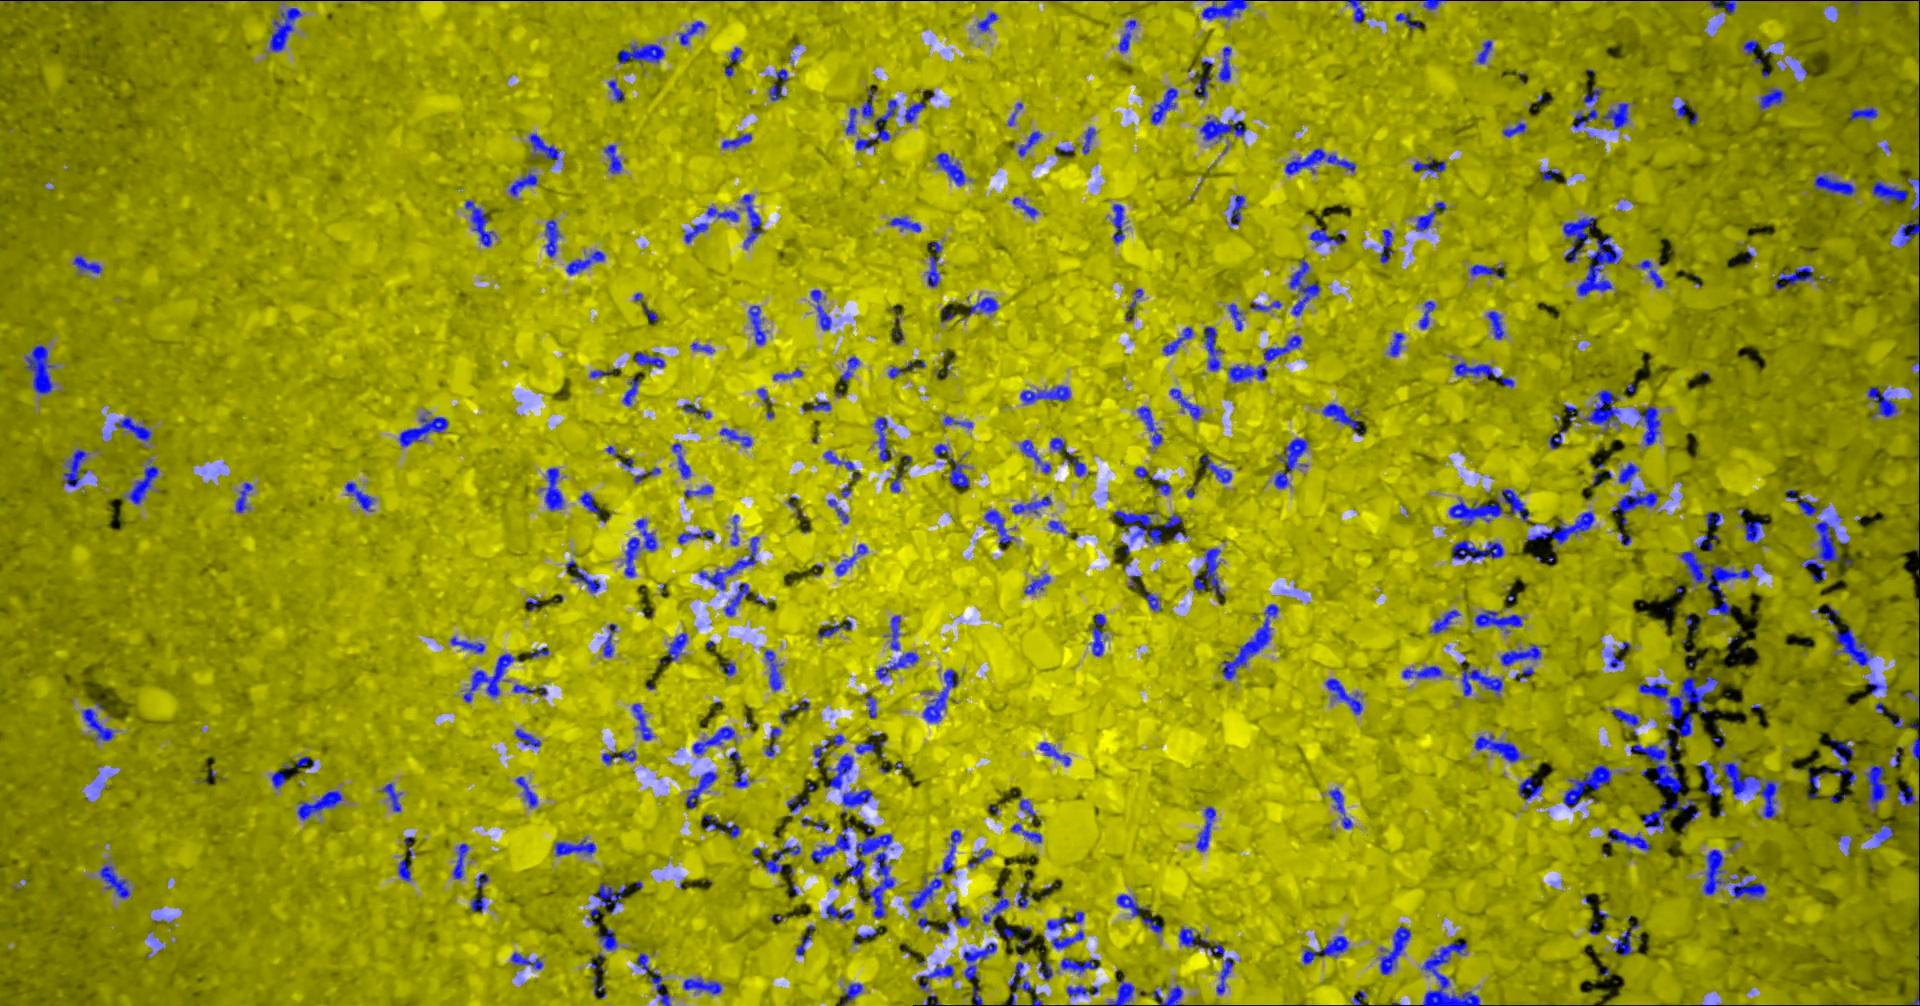ant: (1223, 605, 1280, 680), (701, 536, 759, 589), (1724, 761, 1778, 817), (1578, 236, 1622, 295), (465, 653, 516, 702), (1632, 744, 1683, 793), (1529, 511, 1596, 544), (1806, 520, 1841, 582), (1115, 511, 1183, 542), (1564, 763, 1613, 808), (857, 99, 899, 150), (626, 518, 658, 577), (924, 669, 960, 721), (1290, 258, 1322, 315), (1286, 149, 1357, 174), (1275, 437, 1309, 488), (1613, 489, 1660, 525), (1835, 624, 1874, 666), (1454, 361, 1515, 387), (811, 826, 855, 862), (1583, 389, 1622, 429), (400, 415, 450, 446), (1382, 925, 1412, 974), (1010, 962, 1044, 1005), (1564, 217, 1597, 262), (270, 8, 303, 51), (1450, 498, 1503, 525), (25, 344, 55, 392), (298, 790, 344, 821), (466, 199, 495, 246), (1326, 678, 1364, 714), (1180, 927, 1225, 956), (1304, 935, 1350, 964), (1476, 734, 1523, 762), (126, 465, 160, 503), (1324, 403, 1365, 434), (910, 873, 943, 911), (965, 942, 998, 981), (1201, 116, 1248, 142), (742, 194, 764, 248), (1704, 848, 1730, 895), (1463, 666, 1503, 695), (877, 652, 919, 680), (695, 727, 737, 754), (1831, 738, 1857, 784), (1453, 539, 1505, 560), (687, 771, 717, 808), (1476, 610, 1524, 633), (935, 152, 968, 185), (836, 542, 869, 575), (83, 708, 116, 741), (568, 560, 602, 592), (1867, 763, 1890, 810), (594, 882, 629, 912), (766, 845, 803, 873), (1152, 86, 1178, 124), (1171, 387, 1203, 419), (1021, 439, 1051, 473), (985, 509, 1016, 542), (815, 734, 846, 767), (1138, 406, 1163, 446), (1330, 788, 1354, 828), (1265, 335, 1303, 361), (102, 865, 131, 898), (1609, 828, 1653, 850), (1777, 265, 1816, 290), (919, 963, 955, 989), (984, 887, 1010, 923), (1417, 201, 1448, 231), (568, 250, 606, 274), (65, 448, 89, 486), (1815, 174, 1857, 196), (621, 43, 665, 64), (1021, 385, 1072, 403), (1698, 761, 1723, 796), (1203, 0, 1250, 19), (1205, 547, 1224, 594), (1869, 386, 1898, 417), (660, 633, 690, 663), (1503, 488, 1530, 521), (811, 290, 833, 330), (725, 582, 750, 616), (117, 417, 152, 441), (830, 753, 855, 789), (345, 481, 375, 511), (1639, 405, 1661, 445), (1502, 644, 1542, 666), (1197, 807, 1217, 851), (546, 467, 565, 511), (632, 702, 654, 741), (943, 829, 963, 873), (1164, 326, 1194, 354), (1203, 455, 1233, 481), (1787, 489, 1818, 514), (963, 297, 999, 319), (649, 970, 672, 1005), (1613, 708, 1641, 735), (530, 133, 560, 159), (1205, 326, 1223, 370), (1013, 495, 1053, 514), (1109, 978, 1137, 1005), (1431, 608, 1462, 633), (1195, 60, 1214, 98), (1873, 180, 1909, 201), (766, 649, 783, 690), (1117, 894, 1150, 916), (1604, 102, 1630, 128), (1639, 259, 1665, 287), (1041, 742, 1072, 765), (928, 241, 943, 286), (876, 417, 891, 461), (1218, 956, 1236, 995), (684, 977, 723, 995), (510, 171, 538, 196), (1644, 800, 1669, 828), (750, 305, 767, 345), (517, 776, 538, 807), (1310, 227, 1347, 245), (673, 443, 692, 478), (1900, 213, 1920, 245), (1092, 614, 1107, 655), (949, 457, 970, 486), (546, 218, 563, 257), (1230, 365, 1269, 381), (1062, 956, 1100, 973), (825, 450, 856, 470), (556, 840, 597, 855), (681, 20, 706, 44), (1018, 131, 1043, 156), (819, 619, 853, 636), (721, 427, 753, 446), (1053, 929, 1084, 948), (1012, 823, 1043, 842), (797, 925, 817, 955), (1760, 86, 1787, 108), (382, 782, 403, 810), (1733, 880, 1768, 897), (512, 951, 543, 969), (843, 788, 872, 807), (1520, 776, 1544, 799), (1112, 203, 1126, 243), (1120, 19, 1137, 52), (455, 843, 470, 879), (452, 636, 486, 652), (606, 144, 623, 173), (74, 255, 103, 273), (841, 356, 861, 381), (679, 528, 716, 542), (516, 728, 542, 747), (1615, 929, 1634, 955), (726, 46, 743, 76), (1415, 156, 1448, 171), (237, 481, 254, 512), (1890, 711, 1920, 728), (1472, 264, 1507, 278), (623, 377, 641, 405), (1015, 197, 1039, 217), (684, 222, 709, 243), (829, 499, 850, 523), (1404, 666, 1443, 678), (969, 848, 994, 868), (636, 351, 665, 367), (825, 903, 855, 920), (603, 749, 637, 763), (1898, 785, 1920, 807), (842, 983, 863, 1005), (723, 133, 753, 149), (1161, 984, 1183, 1005), (1420, 300, 1436, 328), (604, 622, 618, 655), (1575, 109, 1599, 128), (1026, 575, 1051, 593), (1490, 310, 1505, 339), (1807, 767, 1822, 796), (709, 207, 740, 221), (1382, 229, 1394, 263), (1550, 426, 1570, 448), (273, 765, 292, 788), (1397, 11, 1421, 29), (891, 217, 922, 231), (684, 403, 712, 418), (905, 102, 926, 122), (1620, 462, 1641, 483), (582, 492, 601, 513), (1873, 824, 1895, 843), (599, 927, 618, 949), (1220, 46, 1232, 81), (1229, 304, 1244, 330), (1745, 520, 1763, 542), (1477, 39, 1493, 64), (1232, 196, 1246, 224), (978, 11, 998, 30), (1067, 457, 1087, 476), (1349, 0, 1366, 22), (1145, 588, 1163, 610), (789, 793, 810, 810), (1143, 915, 1164, 932), (1503, 122, 1528, 137), (1909, 177, 1920, 208), (1251, 300, 1283, 311), (735, 768, 754, 788), (1152, 476, 1172, 494), (891, 615, 902, 650), (1698, 533, 1719, 550), (1021, 799, 1037, 821), (1710, 0, 1738, 13), (1851, 107, 1879, 119), (686, 484, 714, 497), (857, 741, 885, 753), (610, 79, 625, 102), (863, 88, 875, 118), (1084, 127, 1097, 154), (1390, 332, 1404, 356), (775, 368, 804, 380), (945, 415, 974, 427), (1010, 102, 1023, 124), (1825, 605, 1841, 624), (895, 312, 905, 343), (847, 107, 858, 133), (1583, 86, 1603, 102), (399, 857, 411, 880), (1048, 916, 1068, 930), (1672, 798, 1697, 809), (644, 304, 659, 321), (731, 514, 740, 545), (1516, 666, 1535, 680), (1040, 960, 1054, 979), (1018, 890, 1034, 907), (770, 83, 783, 100), (693, 342, 715, 353), (596, 976, 607, 997), (1068, 984, 1090, 996), (637, 951, 650, 970), (891, 471, 903, 492), (1610, 652, 1625, 667), (1869, 682, 1890, 694), (703, 814, 719, 829), (726, 822, 742, 837), (973, 984, 984, 1005), (1707, 511, 1721, 527), (1050, 520, 1067, 533), (1542, 169, 1561, 180), (813, 399, 832, 410), (531, 647, 550, 658), (1423, 0, 1448, 9), (869, 694, 877, 718), (1745, 39, 1759, 55), (1051, 437, 1065, 452), (721, 661, 737, 674), (472, 895, 486, 911), (1354, 989, 1368, 1005), (889, 366, 905, 379), (514, 683, 535, 694), (297, 756, 315, 767), (477, 873, 490, 888), (590, 370, 615, 377), (935, 443, 949, 456), (1914, 735, 1920, 763), (1195, 577, 1208, 589), (1135, 466, 1149, 478), (957, 915, 971, 926), (777, 69, 789, 81)
